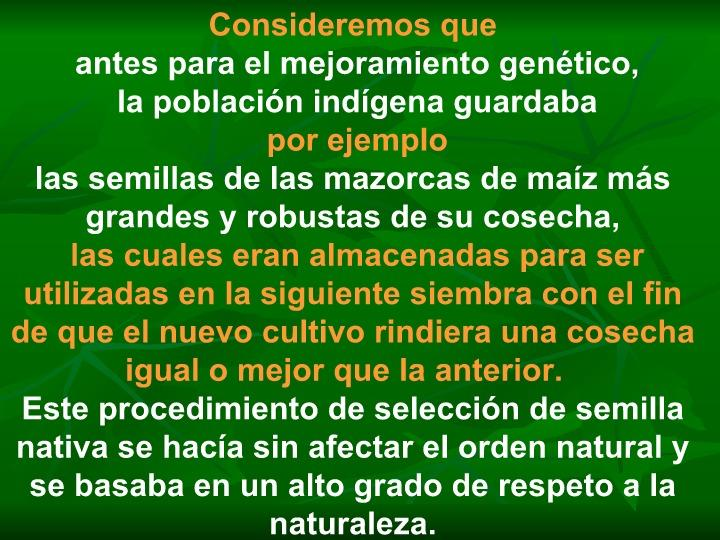paragraph: (9, 5, 704, 540)
